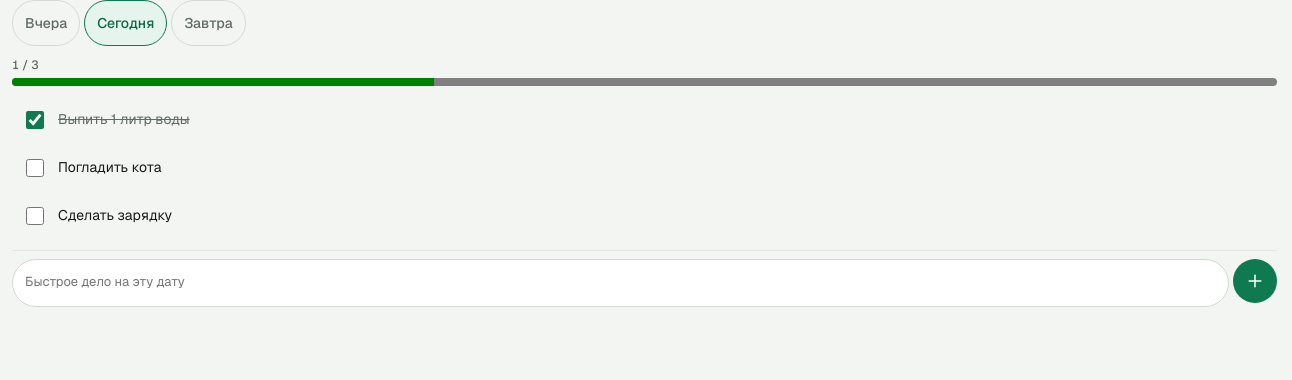
Test: RoutinesWidget › переключает выполнение и даёт отменить
The width and height of the screenshot is (1292, 380).
Check: the text "1 / 3" is shown, box [12, 57, 38, 73]
Click the checkbox labelled "Погладить кота": (34, 168) [26, 159, 44, 177]
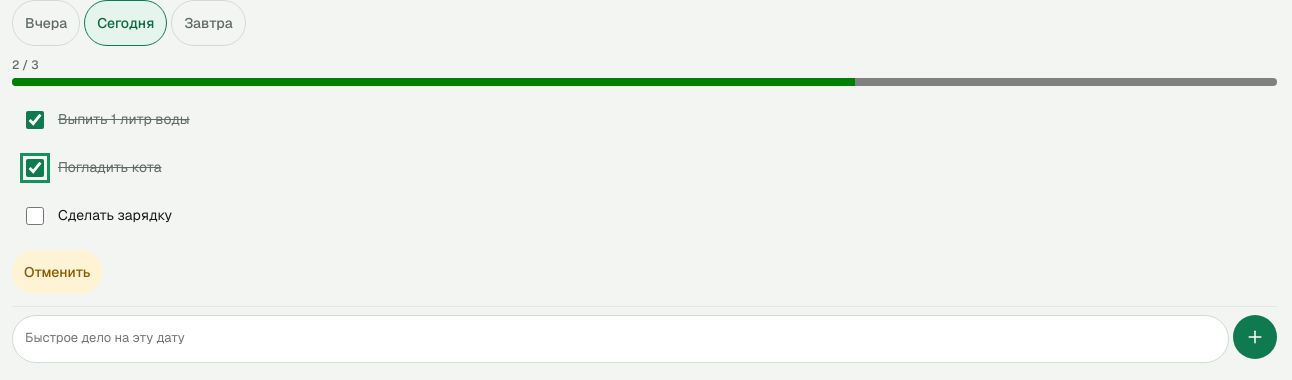
Check: the text "2 / 3" is shown, box [12, 57, 38, 73]
Click the button "Отменить": (57, 272) [12, 250, 102, 294]
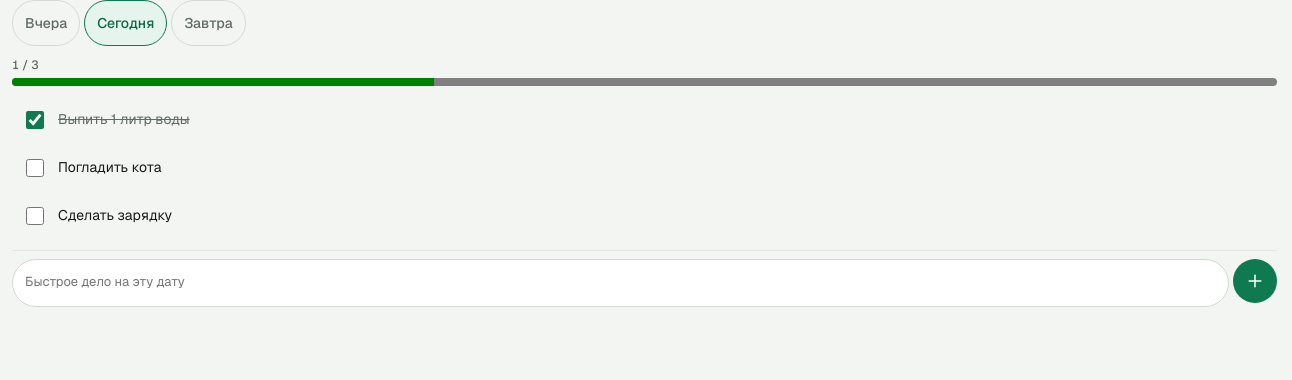
Check: the text "1 / 3" is shown, box [12, 57, 38, 73]
